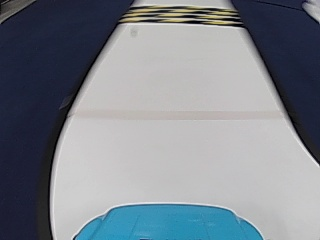bump: (136, 4, 232, 30)
